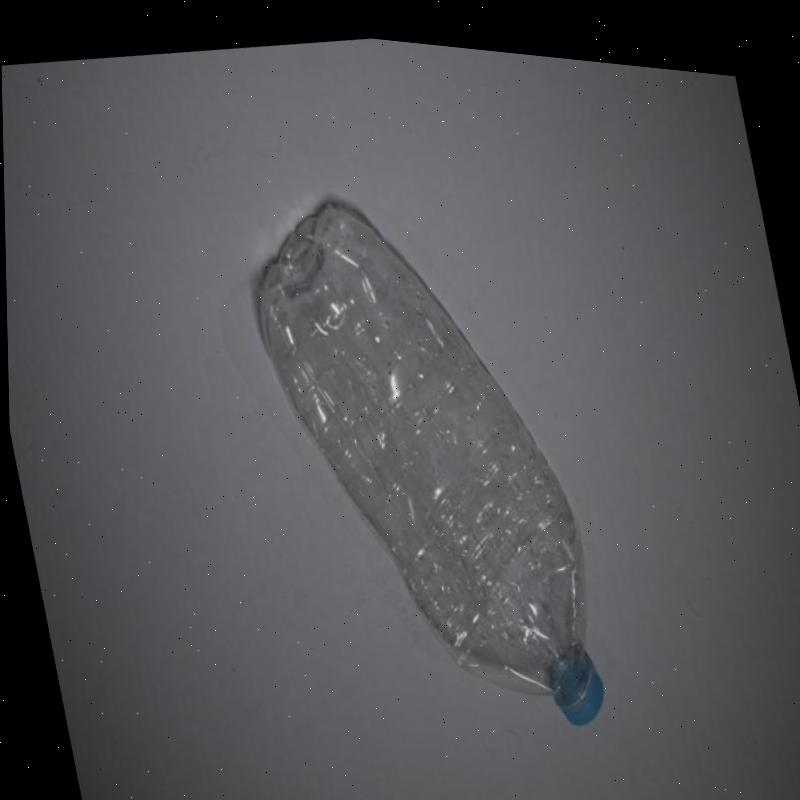botella: (230, 151, 615, 763)
